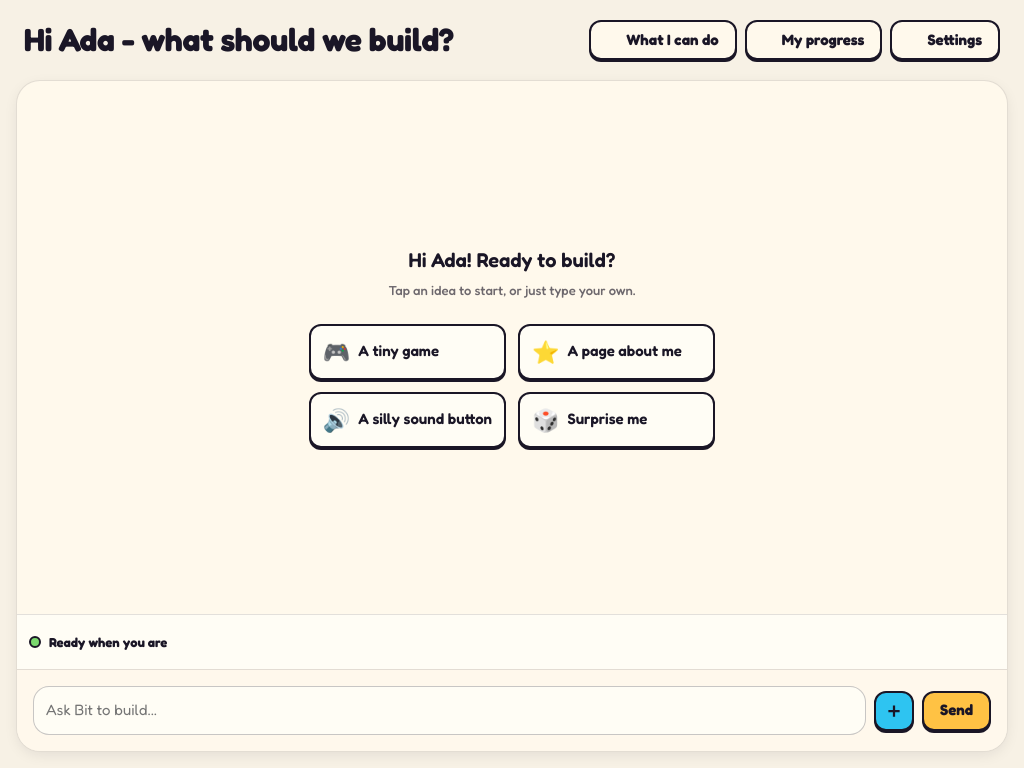
App › switches from chat back to the kid profile gate
Click the button "Settings".
click(945, 40)  # box left=890, top=20, right=1000, bottom=60
(page scrolled)
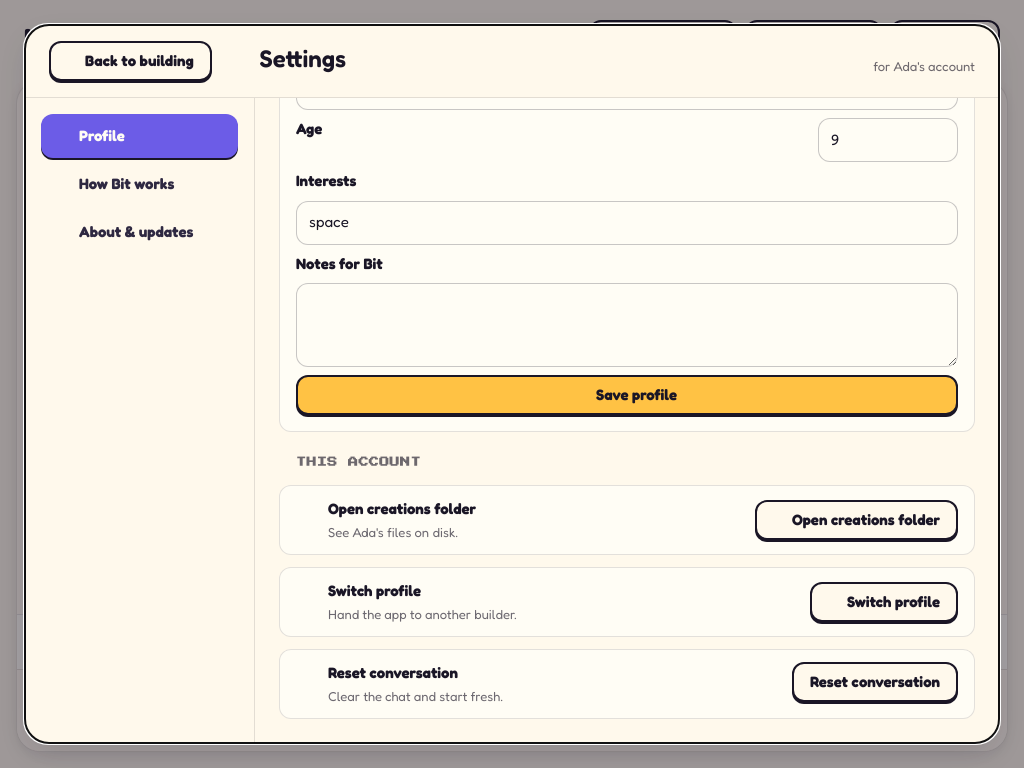
Click the button "Switch profile".
click(884, 602)  # box left=810, top=582, right=958, bottom=622
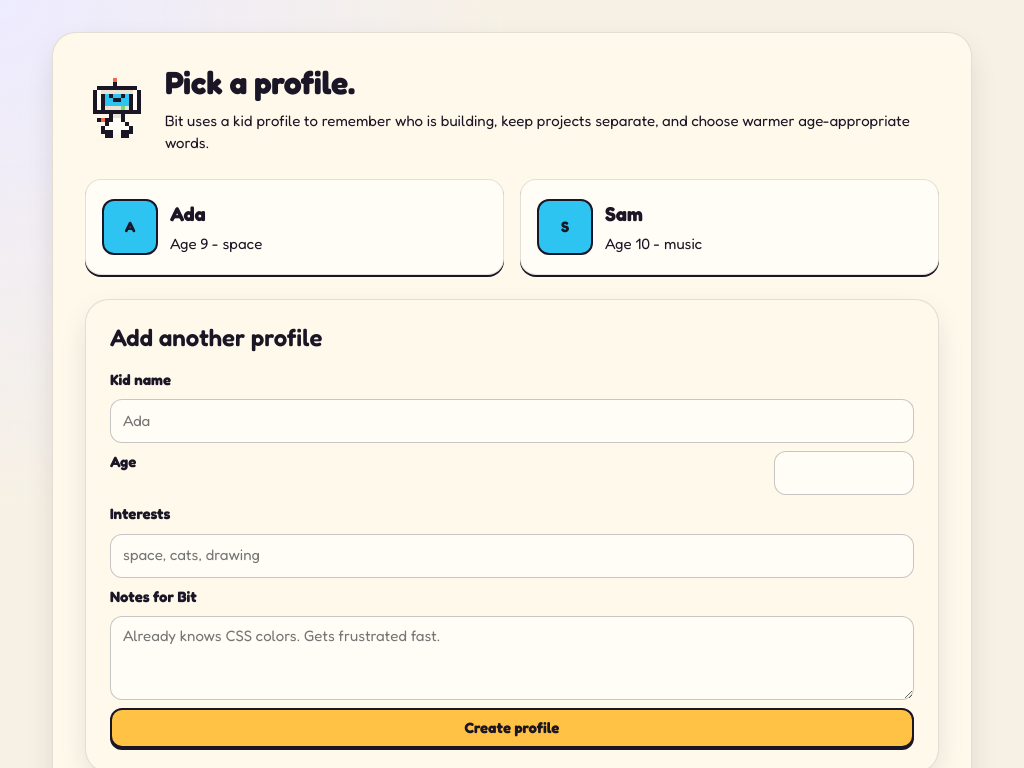
Expected: the text "Pick a profile." is shown, left=165, top=65, right=355, bottom=102
Expected: the text "Sam" is shown, left=605, top=202, right=643, bottom=226
Expected: the text "what should we build?" is gone
